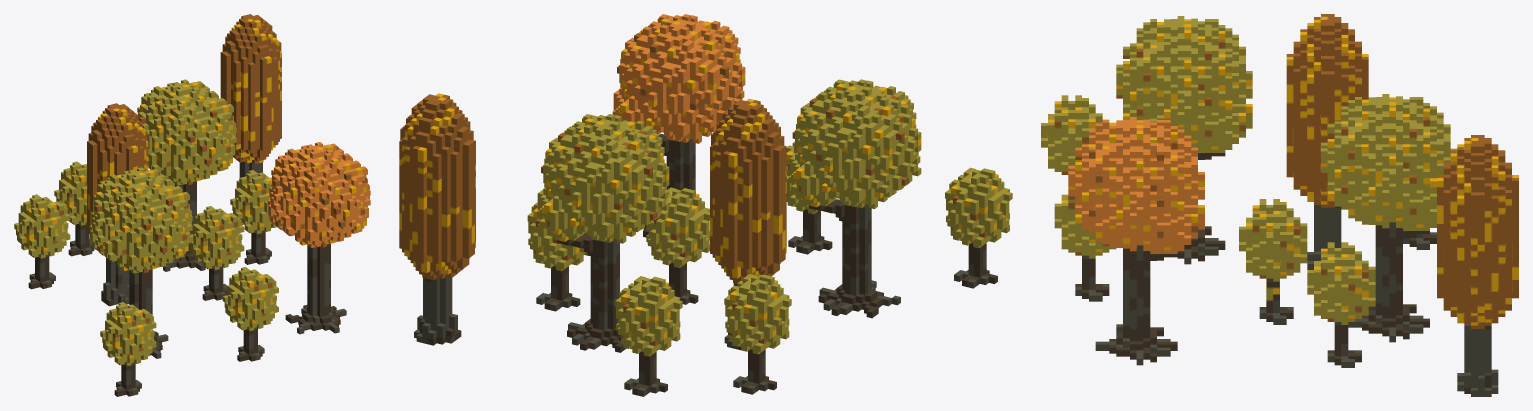
The model's file is trees_7_overtile.glb.
The picture shows the model from 3 angles, left to right: view 1: azimuth 30°, elevation 25°; view 2: azimuth 150°, elevation 25°; view 3: azimuth 270°, elevation 25°; orthographic projection. The views are drawn at different scales.
Visible parts, largest first — view 1: trees_7_overtile; view 2: trees_7_overtile; view 3: trees_7_overtile.
Part boxes in pixels (x1,y1,x2,y2): trees_7_overtile: (14,14,370,396); trees_7_overtile: (399,14,1012,396); trees_7_overtile: (1041,14,1518,396).
Bounding box in the file's own units: 7.2 × 4 × 7.
1 material, 1 textured.
